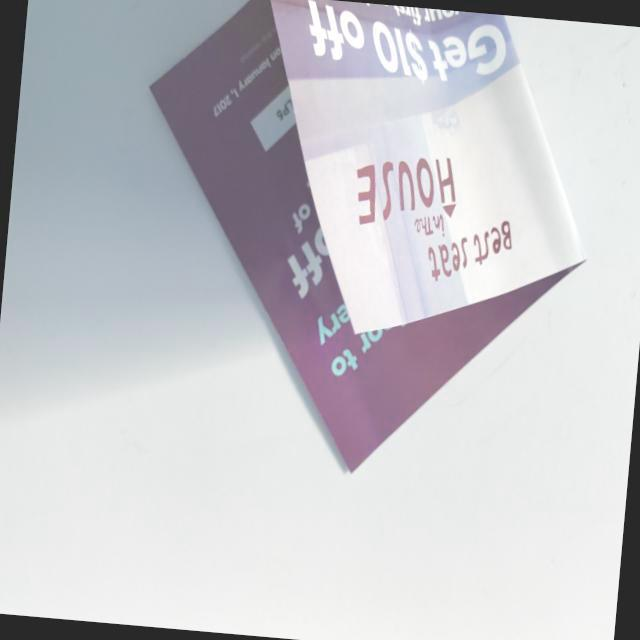paper: (117, 0, 609, 510)
